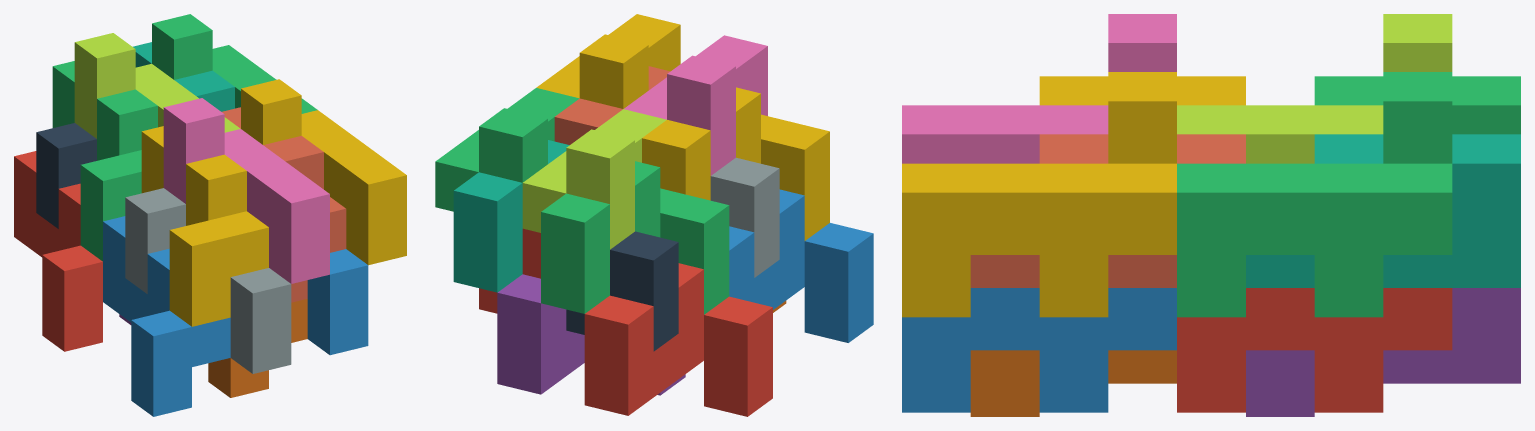
Rendered from tiling.obj.
3 views of the same model, side by side, from view 1: azimuth 30°, elevation 25°; view 2: azimuth 150°, elevation 25°; view 3: azimuth 270°, elevation 25° (orthographic). The views are drawn at different scales.
Visible parts, largest first — view 1: copy_2_domain_4, copy_1_domain_4, copy_2_domain_8, copy_1_domain_2, copy_1_domain_1, copy_2_domain_2, copy_1_domain_3, copy_2_domain_3, copy_2_domain_6, copy_2_domain_7, copy_2_domain_1, copy_1_domain_8 (+2 smaller); view 2: copy_1_domain_1, copy_1_domain_3, copy_1_domain_2, copy_1_domain_4, copy_2_domain_3, copy_2_domain_4, copy_1_domain_7, copy_2_domain_7, copy_1_domain_5, copy_2_domain_8, copy_2_domain_1, copy_2_domain_2 (+2 smaller); view 3: copy_2_domain_7, copy_2_domain_8, copy_2_domain_5, copy_2_domain_6, copy_1_domain_7, copy_2_domain_4, copy_1_domain_5, copy_2_domain_3, copy_1_domain_8, copy_1_domain_6, copy_1_domain_3, copy_1_domain_4.
Part boxes in pixels (x1=…): copy_2_domain_4: x1=163, y1=98, x2=329, y2=283; copy_1_domain_4: x1=141, y1=126, x2=268, y2=326; copy_2_domain_8: x1=241, y1=79, x2=406, y2=265; copy_1_domain_2: x1=103, y1=216, x2=230, y2=416; copy_1_domain_1: x1=14, y1=151, x2=102, y2=351; copy_2_domain_2: x1=125, y1=188, x2=291, y2=373; copy_1_domain_3: x1=52, y1=61, x2=157, y2=261; copy_2_domain_3: x1=74, y1=33, x2=240, y2=138; copy_2_domain_6: x1=307, y1=249, x2=368, y2=355; copy_2_domain_7: x1=152, y1=14, x2=317, y2=113; copy_2_domain_1: x1=36, y1=123, x2=96, y2=228; copy_1_domain_8: x1=222, y1=107, x2=346, y2=302; copy_1_domain_1: x1=584, y1=263, x2=772, y2=416; copy_1_domain_3: x1=541, y1=161, x2=729, y2=314; copy_1_domain_2: x1=729, y1=189, x2=873, y2=342; copy_1_domain_4: x1=642, y1=87, x2=829, y2=240; copy_2_domain_3: x1=522, y1=109, x2=666, y2=249; copy_2_domain_4: x1=624, y1=35, x2=767, y2=175; copy_1_domain_7: x1=453, y1=140, x2=569, y2=292; copy_2_domain_7: x1=435, y1=88, x2=579, y2=211; copy_1_domain_5: x1=497, y1=274, x2=685, y2=395; copy_2_domain_8: x1=536, y1=14, x2=680, y2=108; copy_2_domain_1: x1=566, y1=231, x2=678, y2=351; copy_2_domain_2: x1=710, y1=157, x2=779, y2=277; copy_2_domain_7: x1=1177, y1=72, x2=1452, y2=317; copy_2_domain_8: x1=902, y1=72, x2=1176, y2=317; copy_2_domain_5: x1=1177, y1=288, x2=1452, y2=412; copy_2_domain_6: x1=902, y1=288, x2=1176, y2=412; copy_1_domain_7: x1=1246, y1=134, x2=1520, y2=287; copy_2_domain_4: x1=902, y1=14, x2=1176, y2=163; copy_1_domain_5: x1=1246, y1=288, x2=1520, y2=416; copy_2_domain_3: x1=1177, y1=14, x2=1452, y2=163; copy_1_domain_8: x1=970, y1=134, x2=1245, y2=287; copy_1_domain_6: x1=970, y1=350, x2=1176, y2=416; copy_1_domain_3: x1=1314, y1=76, x2=1520, y2=134; copy_1_domain_4: x1=1039, y1=76, x2=1245, y2=105.
Bounding box in the file's own units: 6 × 6 × 9.
